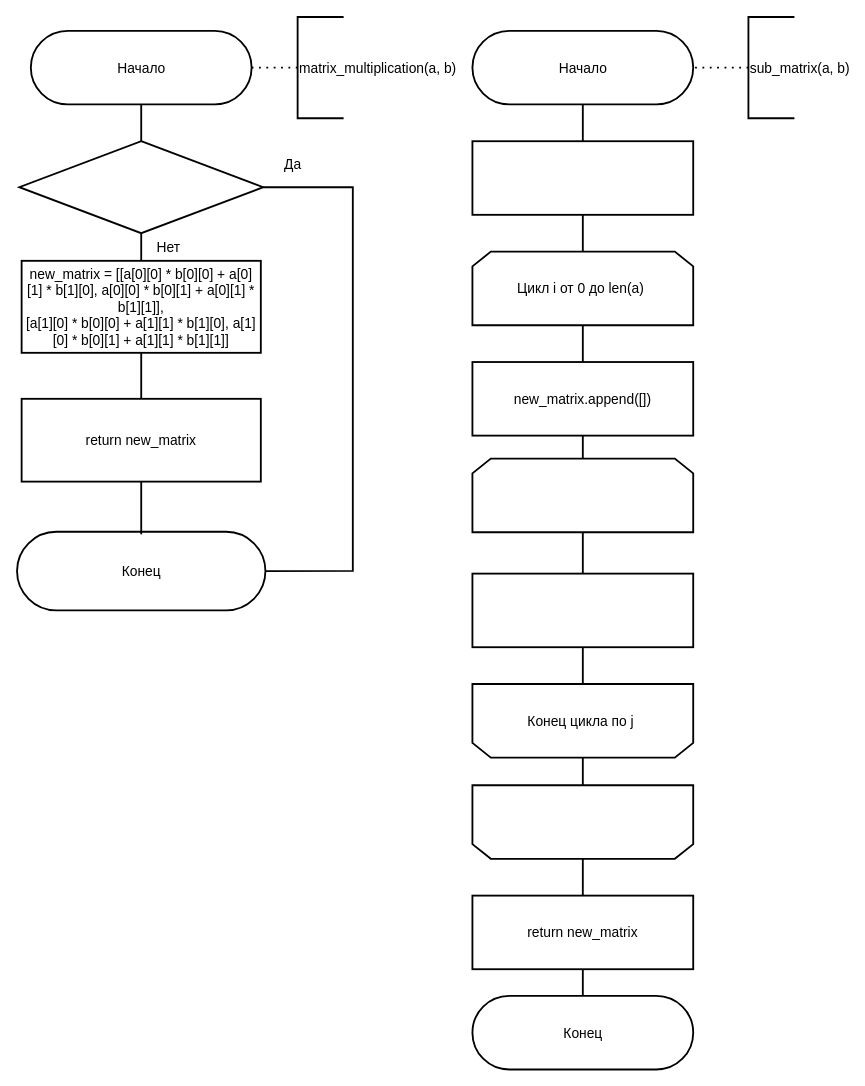
Image size: 865x1086. Some labels were removed from this diagram. The centre of each missing label's shape, as x and y in pixels:
"len(a) != 2 or len(a[0]) != 2 or len(b) != 2 or len(b[0) != 2" goes at (141,187).
"new_matrix = []" goes at (582,177).
"new_matrix[i].append(a[i][j] -b[i][j])" goes at (582,610).
"Конец цикла по i" goes at (582,821).
"Цикл j от 0 до len(b)" goes at (582,495).
